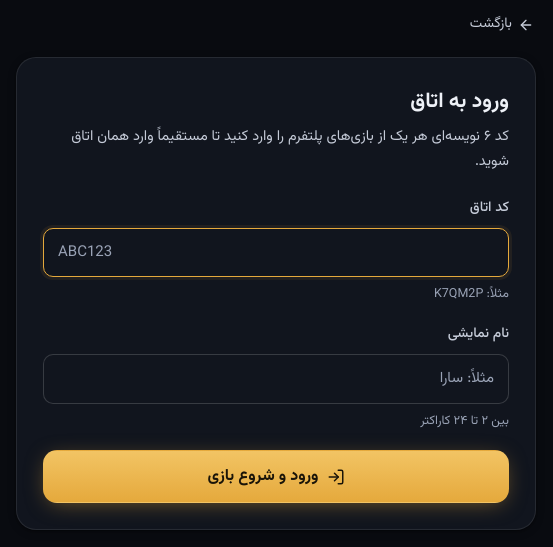
JoinRoomPage › uppercases and strips non-alphanumeric characters from the code input
In the field labelled "کد اتاق": [276, 252] box [43, 228, 509, 277], type "  ab!@c234 "
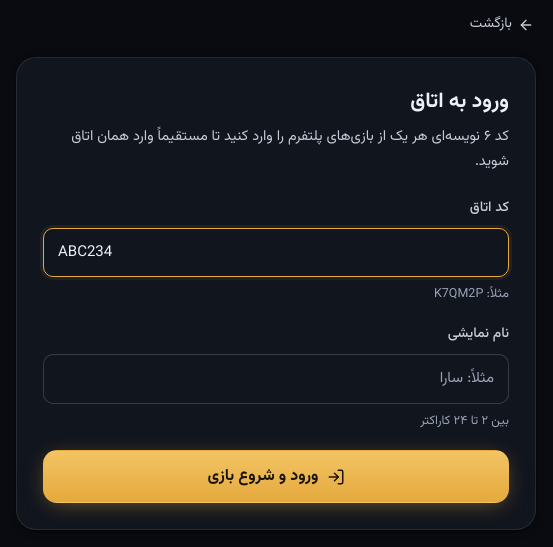
Expected: the field labelled "کد اتاق" holds "ABC234", [43, 228, 509, 277]
